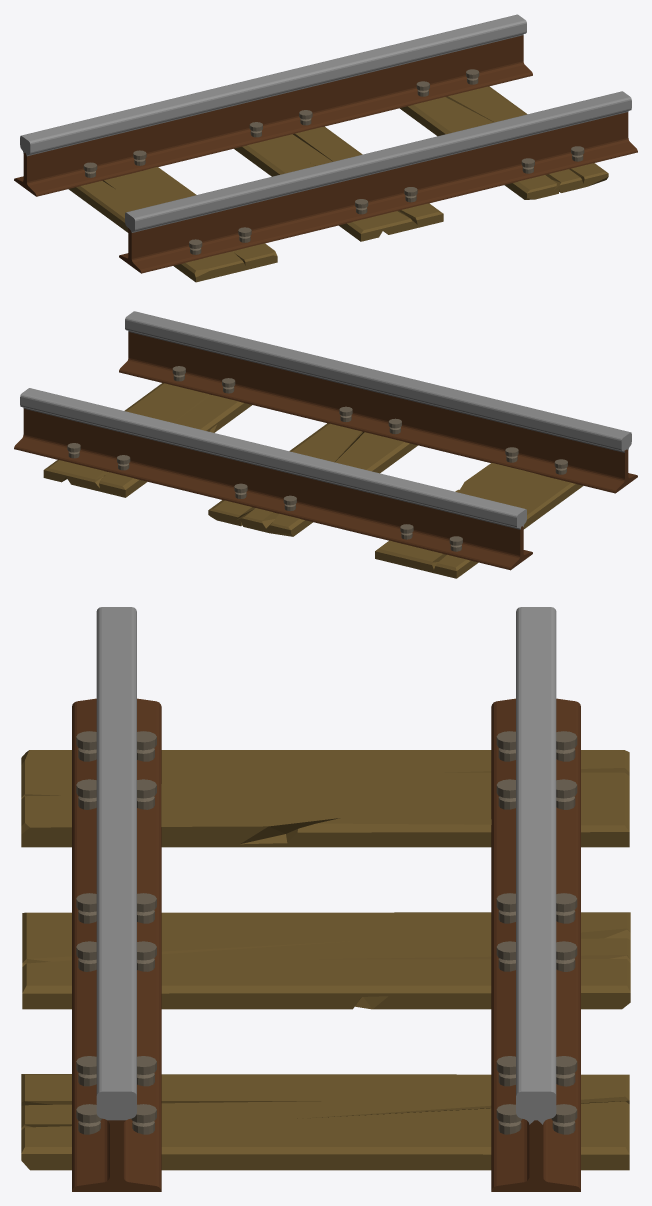
The model's file is ray_tahta_duz.fbx.
3 views of the same model, one above another, from view 1: azimuth 30°, elevation 25°; view 2: azimuth 150°, elevation 25°; view 3: azimuth 270°, elevation 25° (orthographic). The views are drawn at different scales.
Visible parts, largest first — view 1: Cube.002, Cube, Cylinder.003, Cube.003, Cylinder.022; view 2: Cube, Cube.002, Cylinder.003, Cube.003, Cylinder.022; view 3: Cylinder.003, Cube.003, Cylinder.022, Cube.002, Cube.
Boxes of the visible parts, <box> form: Cube.002: <box>119,91,637,273</box>; Cube: <box>14,14,532,196</box>; Cylinder.003: <box>68,150,277,282</box>; Cube.003: <box>234,110,443,241</box>; Cylinder.022: <box>400,69,608,199</box>; Cube: <box>14,388,532,570</box>; Cube.002: <box>119,311,637,493</box>; Cylinder.003: <box>375,447,583,578</box>; Cube.003: <box>208,406,417,536</box>; Cylinder.022: <box>43,366,251,497</box>; Cylinder.003: <box>21,731,629,847</box>; Cube.003: <box>22,893,630,1009</box>; Cylinder.022: <box>21,1056,629,1170</box>; Cube.002: <box>72,607,161,1191</box>; Cube: <box>491,607,580,1191</box>.
Bounding box in the file's own units: 714 × 82.28 × 379.
